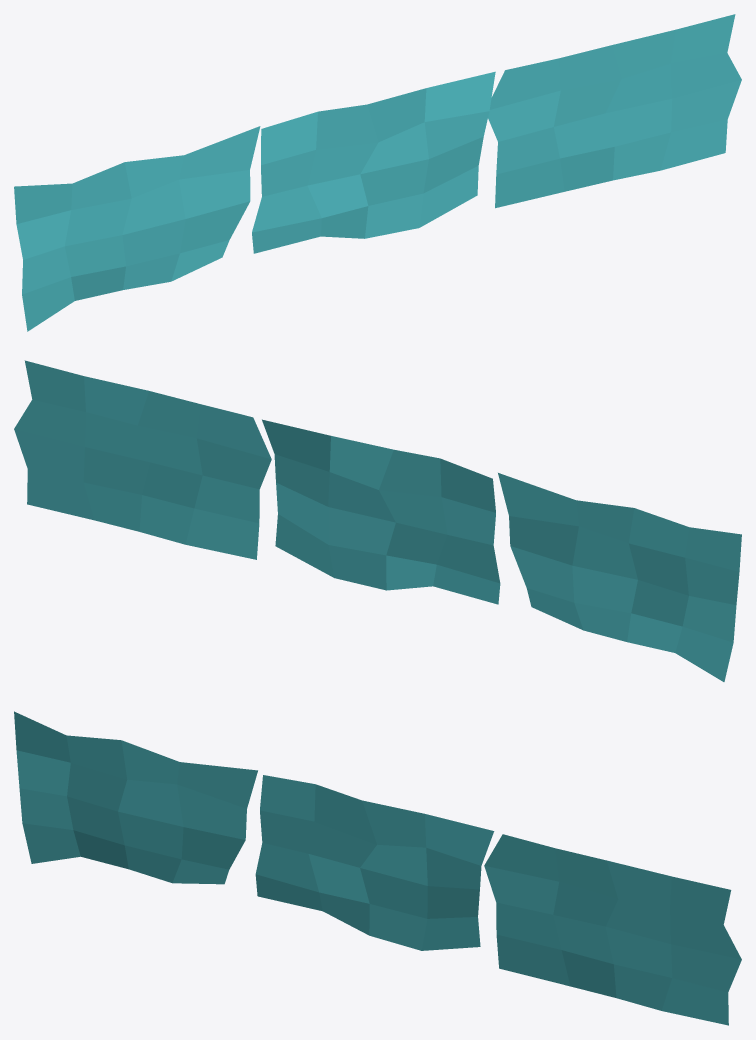
The model's file is HallWayCurtains.fbx.
3 renders of one model, top to bottom at view 1: azimuth 30°, elevation 25°; view 2: azimuth 150°, elevation 25°; view 3: azimuth 330°, elevation 25°, orthographic.
Visible parts, largest first — view 1: Plane.006; view 2: Plane.006; view 3: Plane.006.
Boxes of the visible parts, box(x1,y1,x2,y2) form: Plane.006: box(14, 14, 741, 331); Plane.006: box(14, 360, 741, 681); Plane.006: box(14, 711, 741, 1025).
Size of the model in its own units: 501 by 100 by 8.34.
